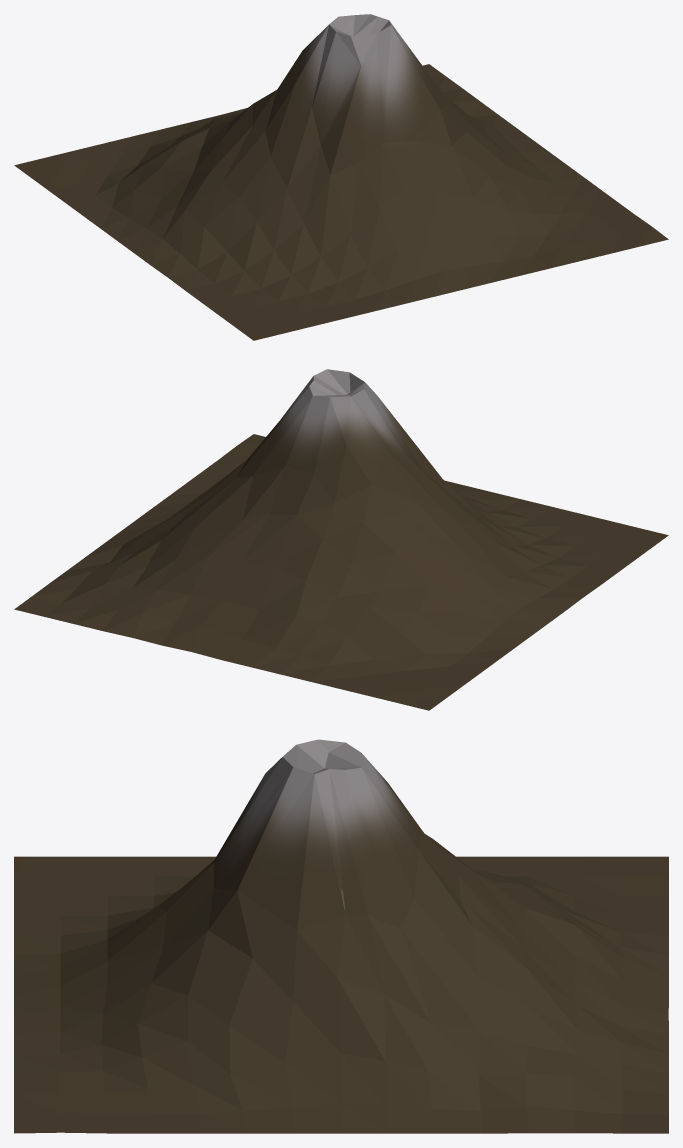
Rendered from fujisan 1.obj.
3 views of the same model, one above another, from view 1: azimuth 30°, elevation 25°; view 2: azimuth 150°, elevation 25°; view 3: azimuth 270°, elevation 25° (orthographic). The views are drawn at different scales.
Visible parts, largest first — view 1: Landscape.003; view 2: Landscape.003; view 3: Landscape.003.
Boxes of the visible parts, x1,y1,x2,y2 form: Landscape.003: (14, 14, 668, 340); Landscape.003: (14, 369, 668, 710); Landscape.003: (14, 739, 668, 1133).
Bounding box in the file's own units: 2 × 0.84 × 2.
